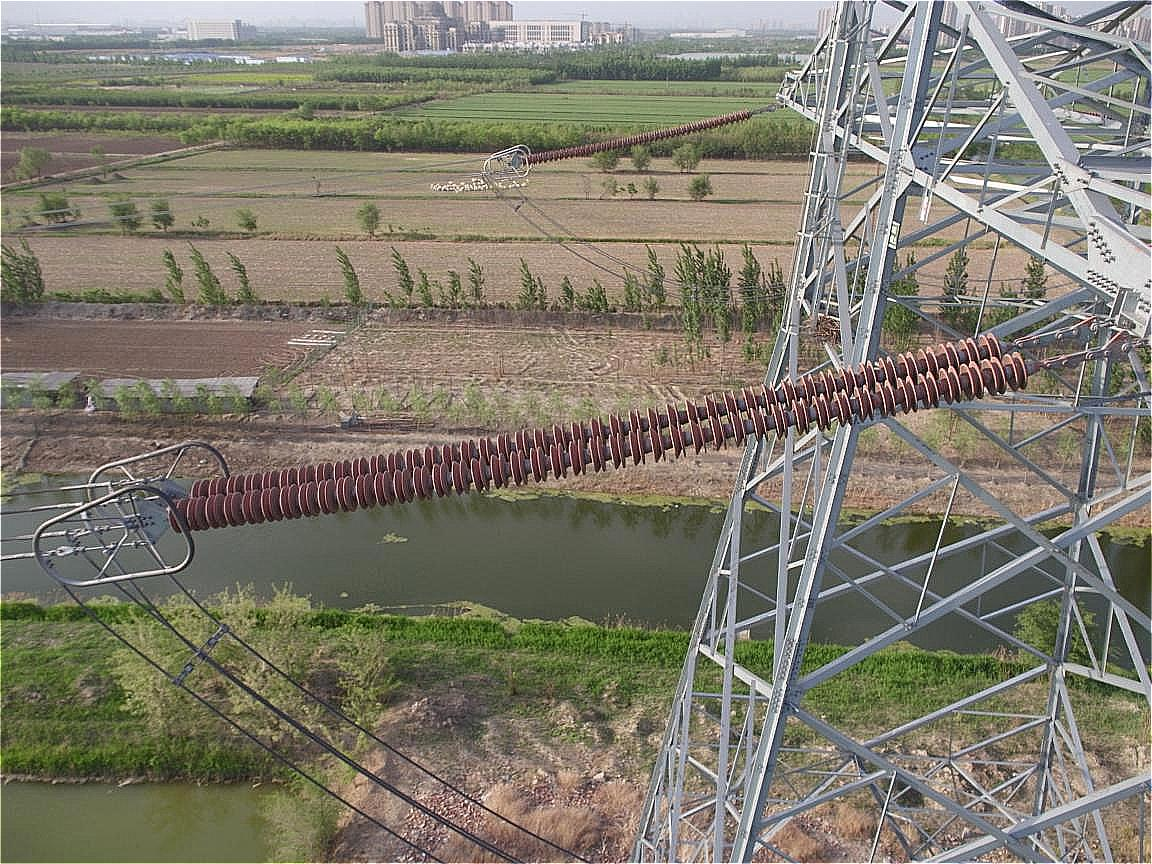insultor2: (167, 332, 1028, 535), (523, 107, 755, 166)
